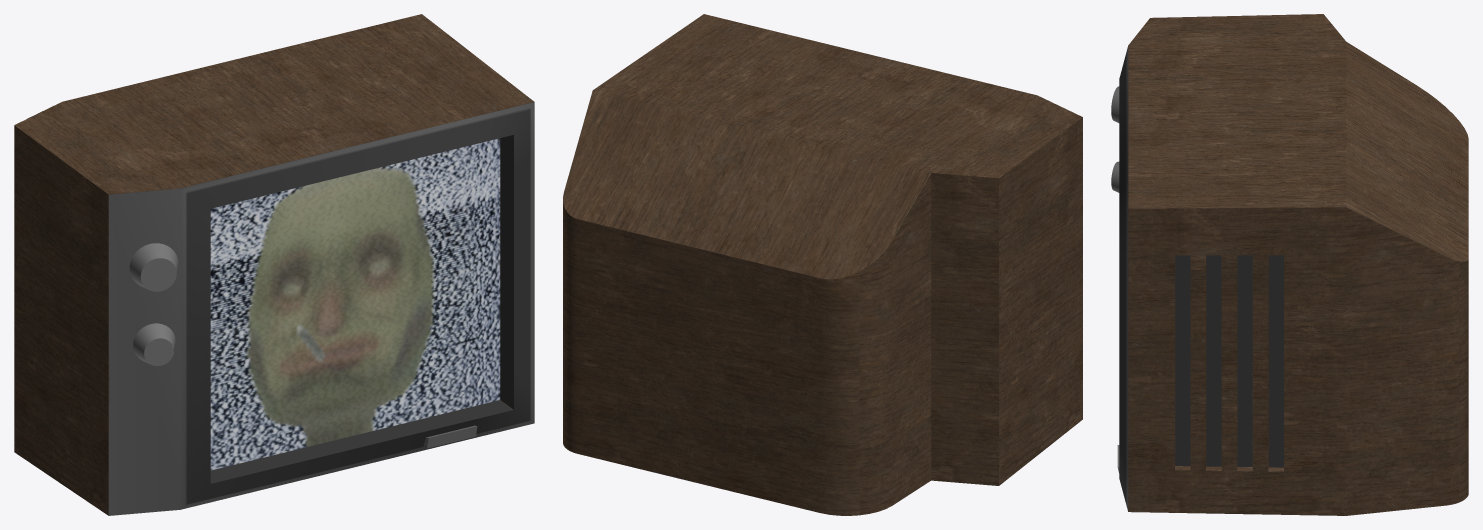
3 renders of one model, left to right at view 1: azimuth 30°, elevation 25°; view 2: azimuth 150°, elevation 25°; view 3: azimuth 270°, elevation 25°, orthographic. The views are drawn at different scales.
Visible parts, largest first — view 1: Tv; view 2: Tv; view 3: Tv.
Part boxes in pixels (left/top/right/bottom): Tv: left=14, top=14, right=534, bottom=515; Tv: left=563, top=14, right=1082, bottom=515; Tv: left=1111, top=14, right=1468, bottom=515.
Bounding box in the file's own units: 54.93 × 40.9 × 42.94.
